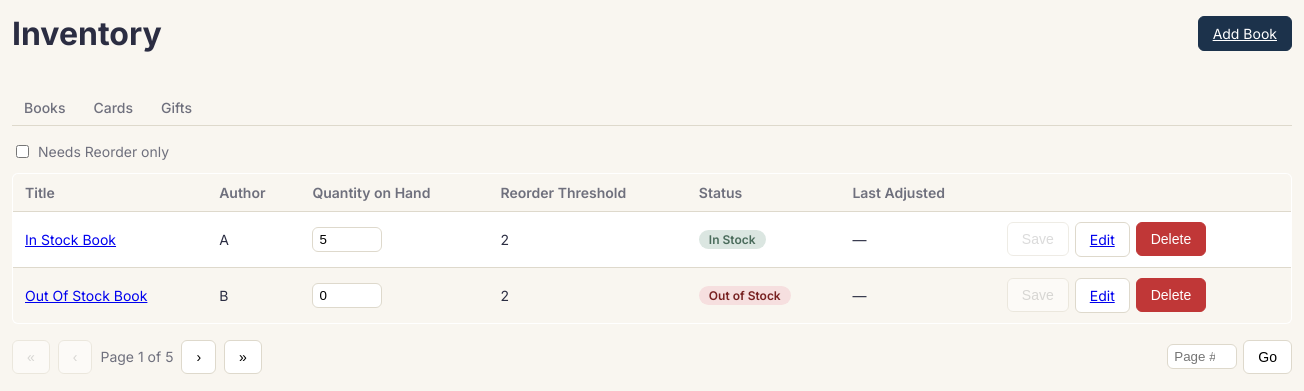
Scenario: InventoryPage › re-fetches with the new page when Skip to Last is clicked
This screenshot has width=1304, height=391.
Expected: the text "Page 1 of 5" is shown, [100, 348, 174, 365]
Click the button named "Skip to last page" at x=243, y=357, box [224, 340, 262, 374]
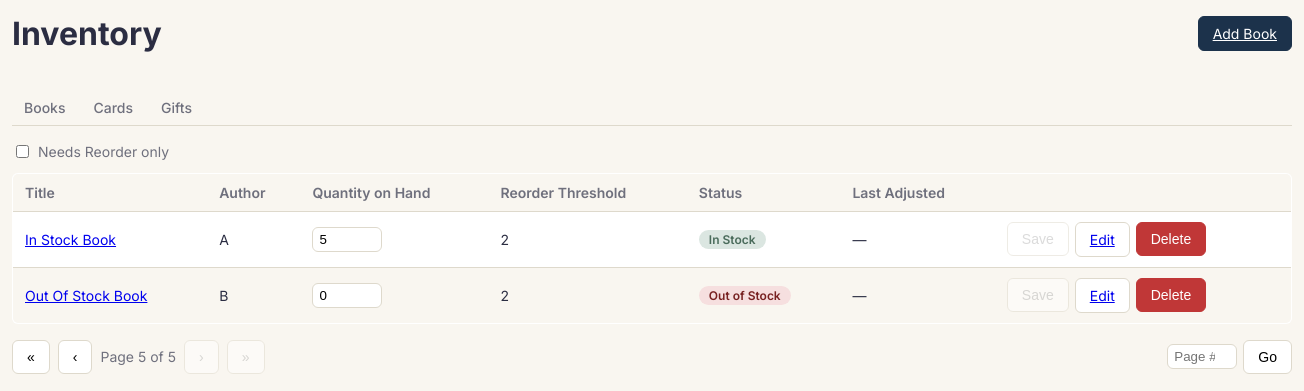
Now the text "Page 5 of 5" is shown, box [100, 348, 176, 365]
